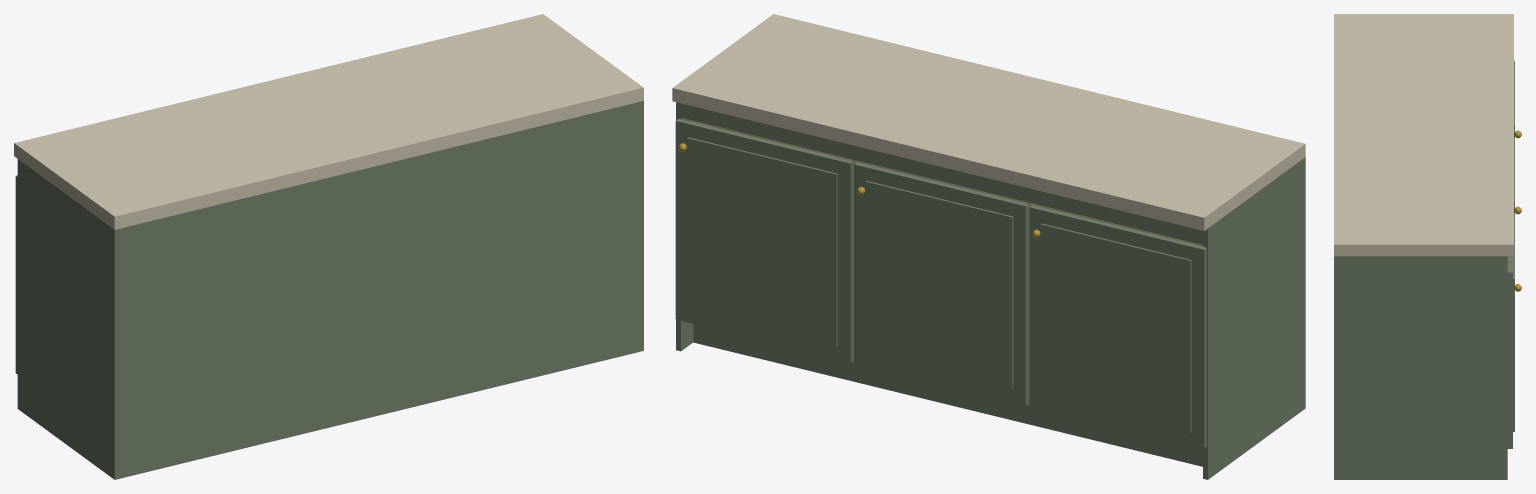
Rendered from counter-south.glb.
3 views of the same model, side by side, from view 1: azimuth 30°, elevation 25°; view 2: azimuth 150°, elevation 25°; view 3: azimuth 270°, elevation 25° (orthographic). The views are drawn at different scales.
Parts seen in each view (by area): view 1: counter-south; view 2: counter-south, cabinet-door-counter-south-3, cabinet-door-counter-south-1, cabinet-door-counter-south-2; view 3: counter-south, cabinet-door-counter-south-3.
Boxes of the visible parts, x1,y1,x2,y2 form: counter-south: (14,14,643,479); counter-south: (672,14,1305,479); cabinet-door-counter-south-3: (675,118,853,361); cabinet-door-counter-south-1: (1029,205,1206,448); cabinet-door-counter-south-2: (854,162,1028,404); counter-south: (1334,14,1513,479); cabinet-door-counter-south-3: (1507,214,1521,448).
Size of the model in its own units: 6.31 by 3 by 2.17.
